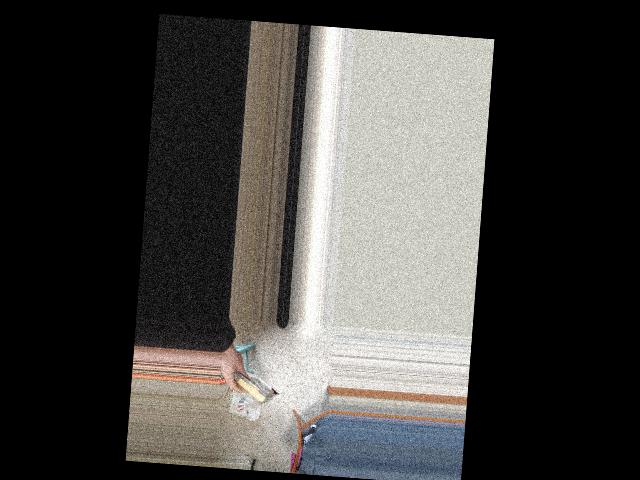cheese: (220, 366, 281, 406)
